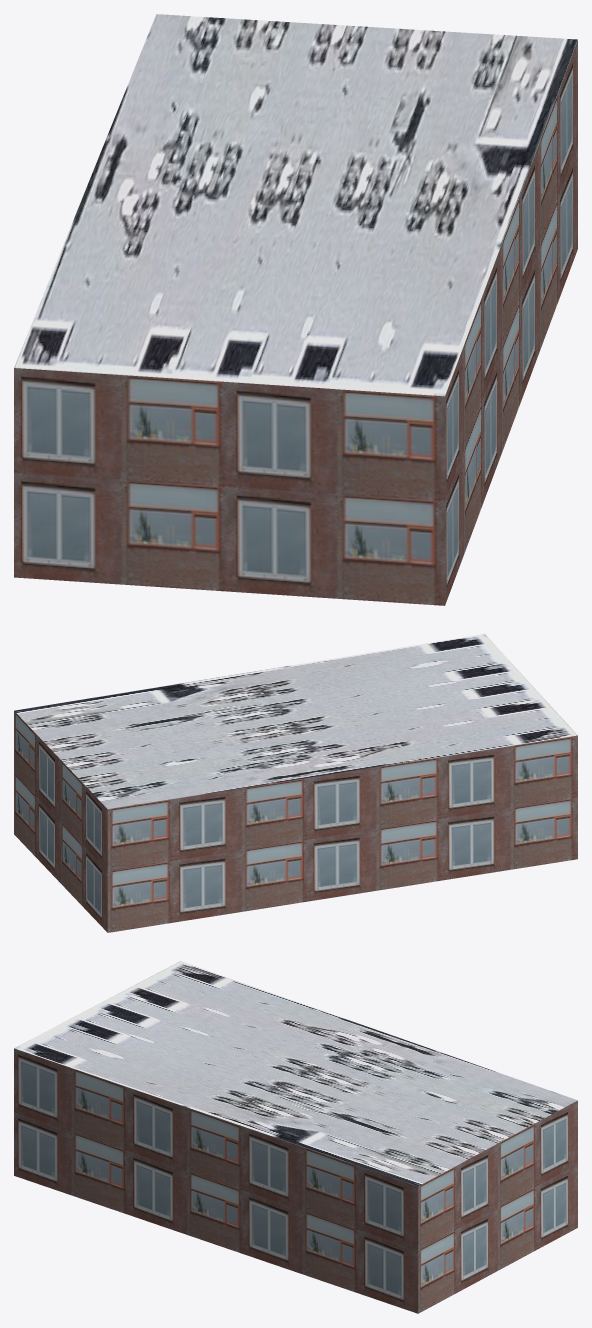
The model's file is ResTex__2092.fbx.
3 renders of one model, top to bottom at view 1: azimuth 30°, elevation 25°; view 2: azimuth 150°, elevation 25°; view 3: azimuth 270°, elevation 25°, orthographic. The views are drawn at different scales.
Parts seen in each view (by area): view 1: CityEngineMaterial_15_m, CityEngineMaterial_19_m; view 2: CityEngineMaterial_19_m, CityEngineMaterial_15_m; view 3: CityEngineMaterial_19_m, CityEngineMaterial_15_m.
Part boxes in pixels (box(x1,y1,x2,y2)): CityEngineMaterial_15_m: box(14, 14, 577, 396); CityEngineMaterial_19_m: box(14, 40, 577, 605); CityEngineMaterial_19_m: box(14, 711, 577, 932); CityEngineMaterial_15_m: box(14, 634, 577, 808); CityEngineMaterial_19_m: box(14, 1048, 577, 1313); CityEngineMaterial_15_m: box(14, 961, 577, 1186).
Size of the model in its own units: 22.76 by 6 by 24.08.
Materials: 2 (2 with a texture image).
